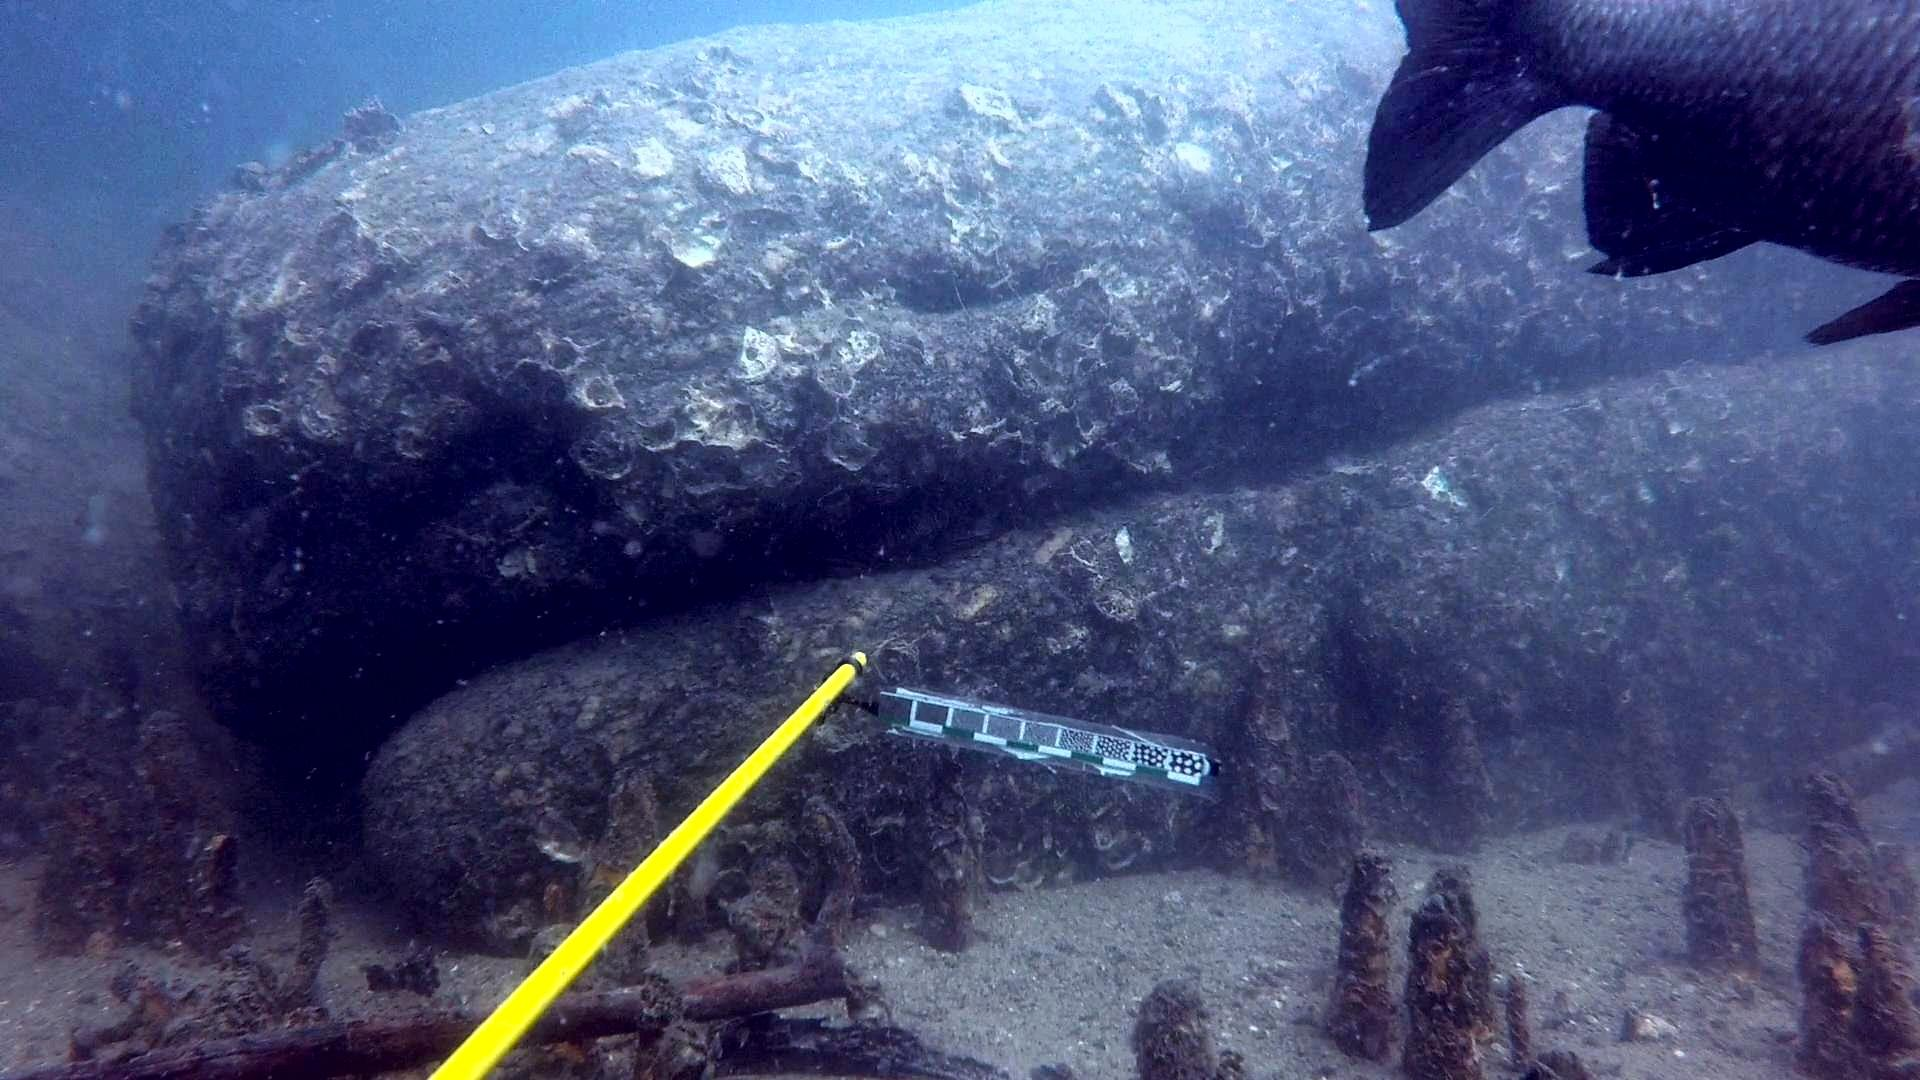acanthopagrus palmaris: (1357, 0, 1920, 356)
